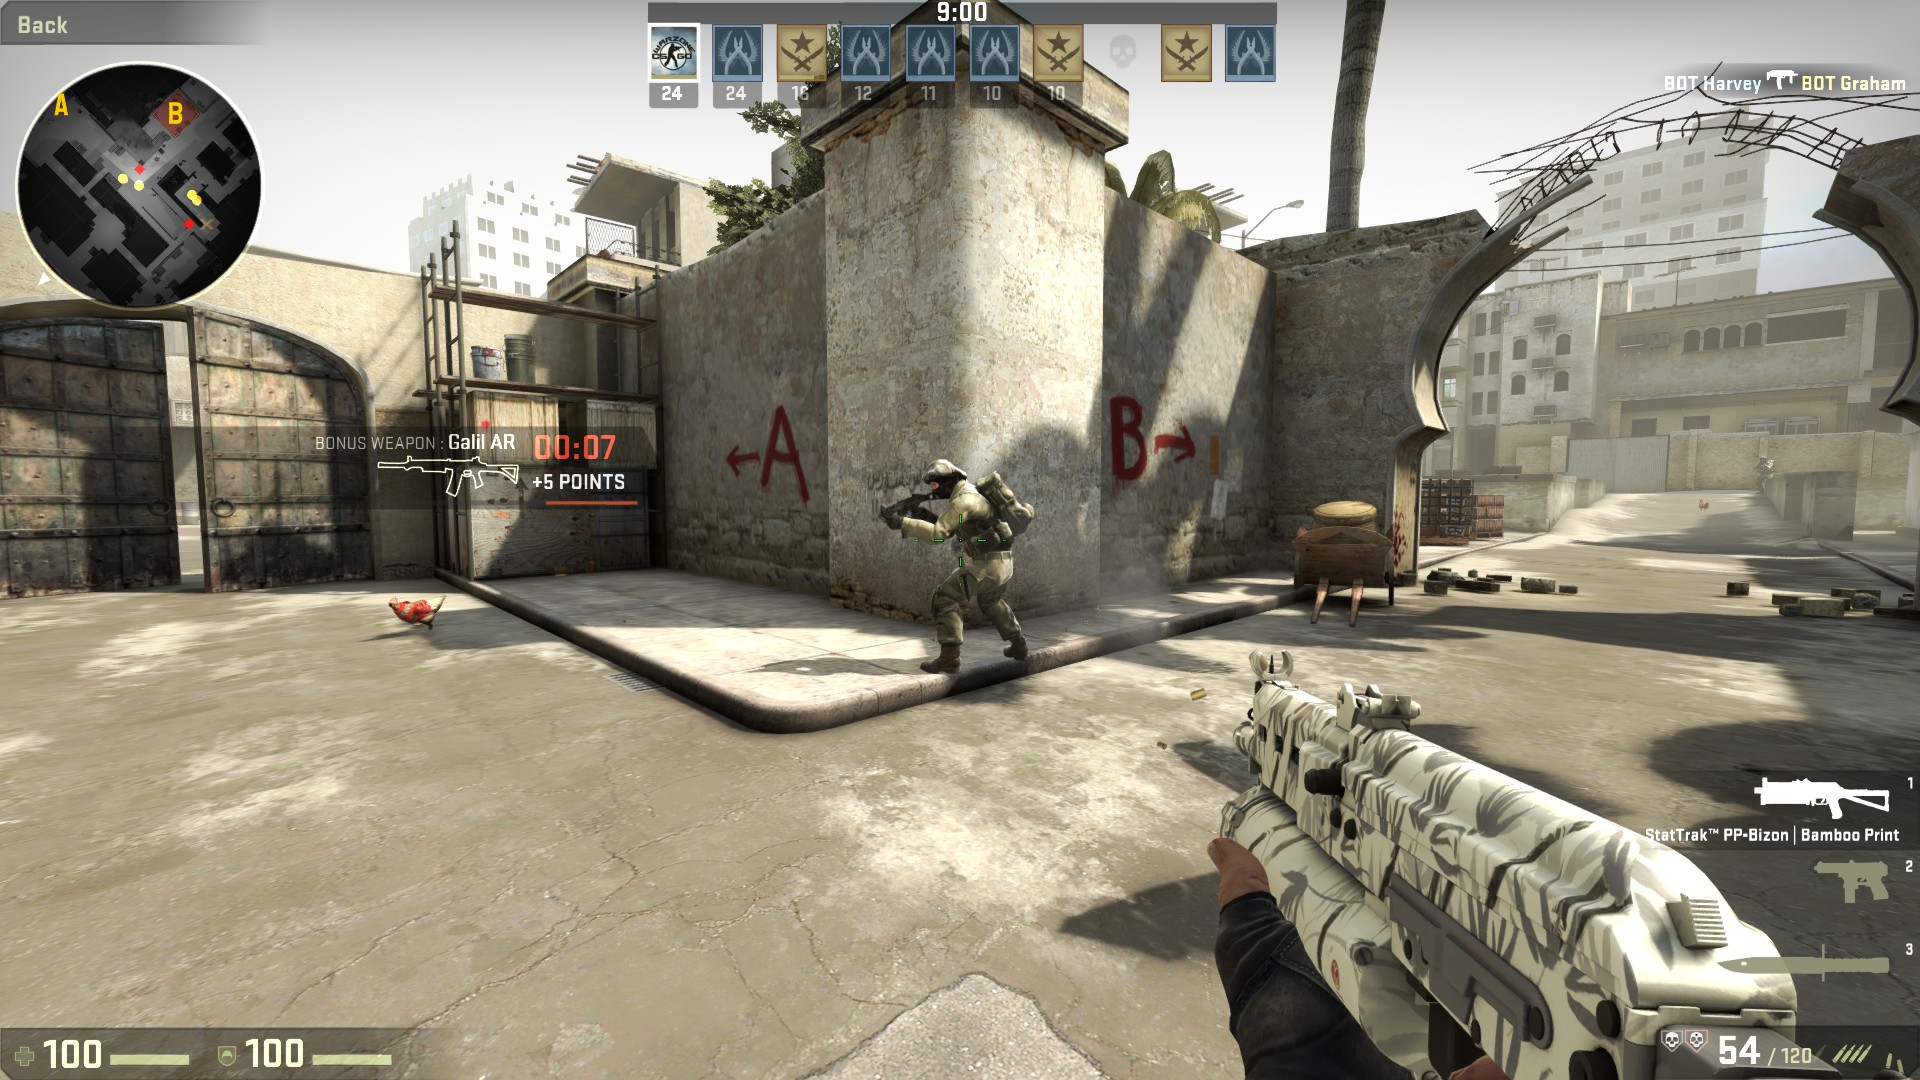c: (913, 456, 1021, 675)
ch: (927, 458, 964, 502)
